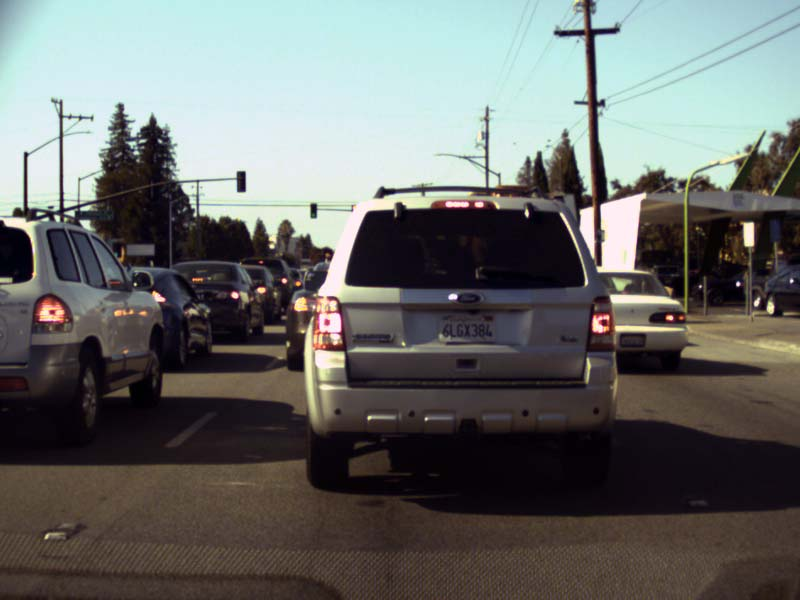Green: (310, 202, 316, 218)
Yellow: (324, 248, 330, 261), (351, 203, 356, 213)
